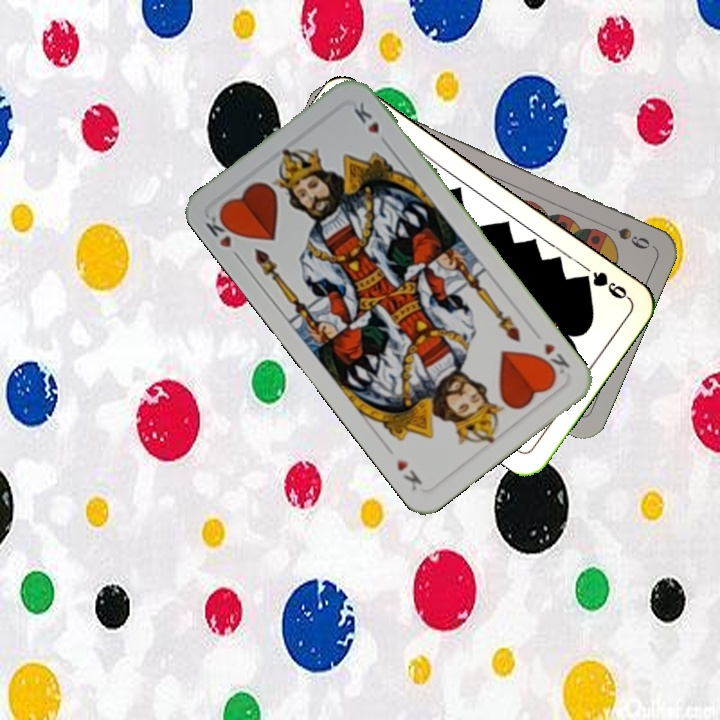G9: (575, 267, 632, 302)
HK: (201, 207, 244, 264), (535, 338, 573, 382)
S9: (597, 219, 653, 252)
